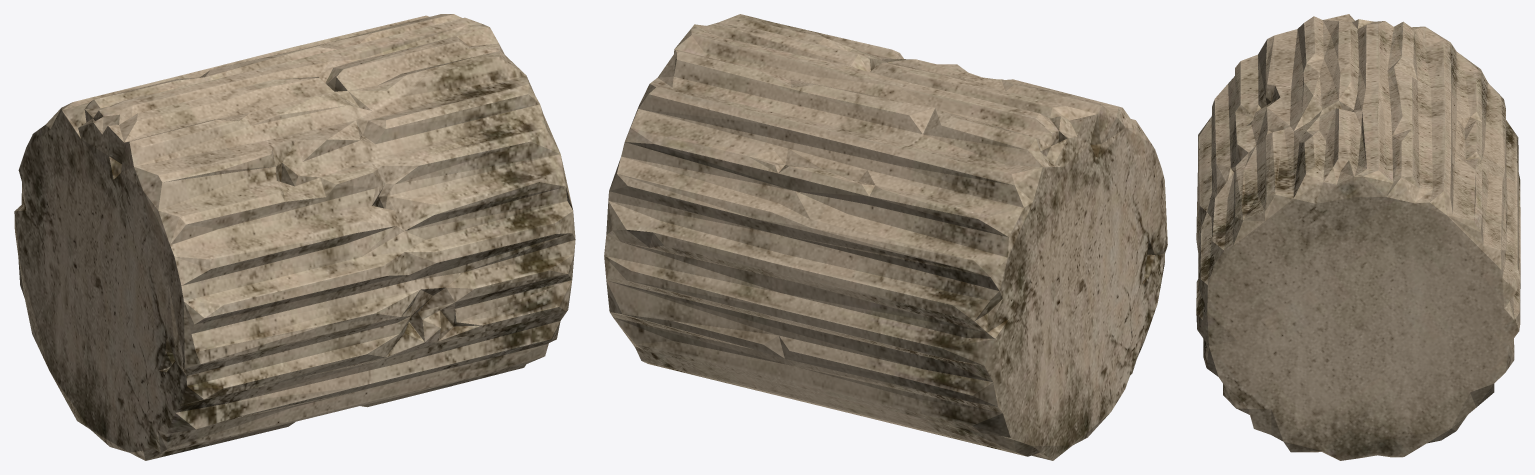
File: drum.glb
3 views of the same model, side by side, from view 1: azimuth 30°, elevation 25°; view 2: azimuth 150°, elevation 25°; view 3: azimuth 270°, elevation 25° (orthographic). The views are drawn at different scales.
Parts seen in each view (by area): view 1: lo; view 2: lo; view 3: lo.
Part boxes in pixels (box(x1,y1,x2,y2)): lo: box(14, 14, 575, 460); lo: box(604, 14, 1167, 460); lo: box(1196, 14, 1520, 460).
Size of the model in its own units: 0.9992 by 0.8078 by 0.8148.
Materials: 1 (1 with a texture image).
